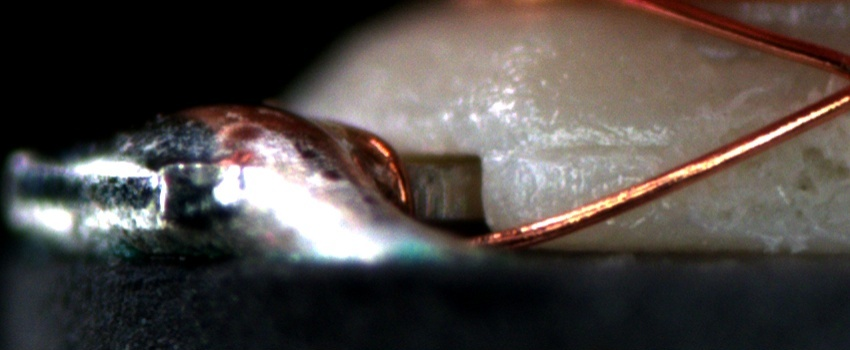CL: (830, 50, 850, 106)
DL: (508, 125, 668, 177)
TE: (346, 119, 420, 221)
